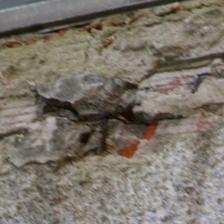Crack: (34, 87, 185, 131)
